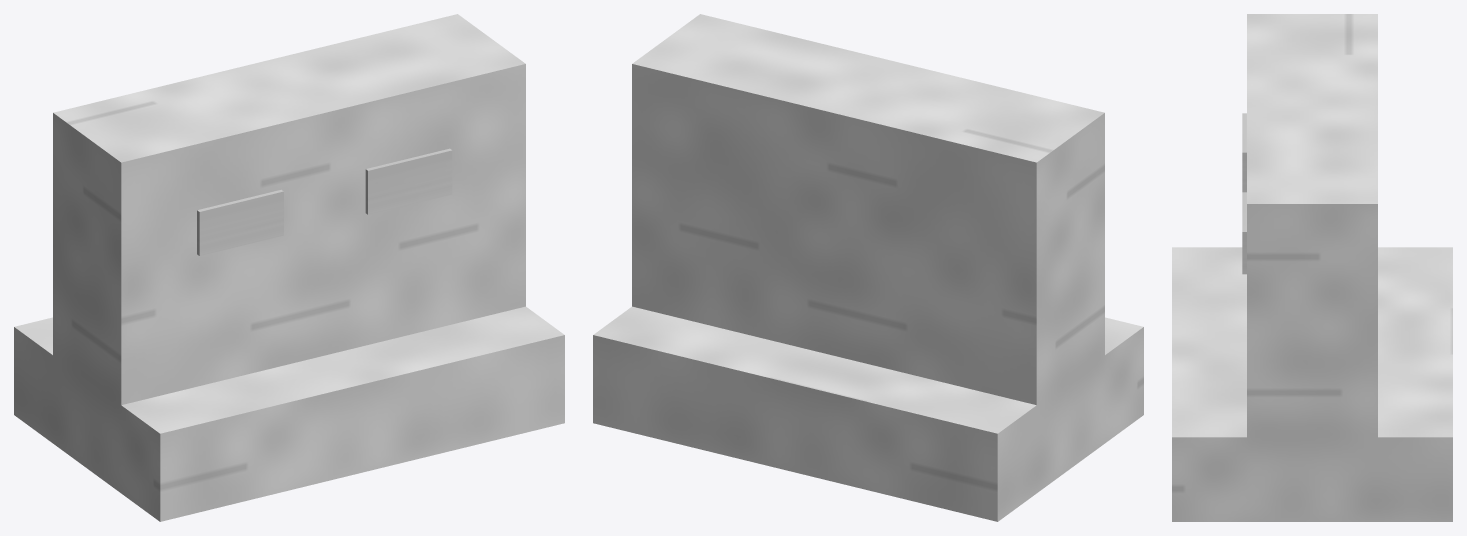
Rendered from concrete_barrier.obj.
3 views of the same model, side by side, from view 1: azimuth 30°, elevation 25°; view 2: azimuth 150°, elevation 25°; view 3: azimuth 270°, elevation 25° (orthographic). The views are drawn at different scales.
Visible parts, largest first — view 1: concrete_barrier; view 2: concrete_barrier; view 3: concrete_barrier.
Boxes of the visible parts, <box> form: concrete_barrier: <box>14,14,564,521</box>; concrete_barrier: <box>593,14,1143,521</box>; concrete_barrier: <box>1172,14,1452,521</box>.
Size of the model in its own units: 0.96 by 0.75 by 0.6.
